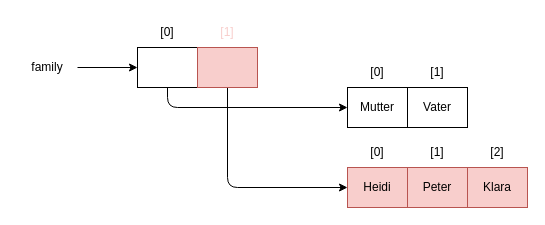
The diagram is 545 pixels wide and 225 high, and some of its shapes have lost their labels. Here are the shapes that lost their labels. From the top down, the box of each, then its label:
(136, 46, 198, 88): parents
(196, 46, 258, 88): children
